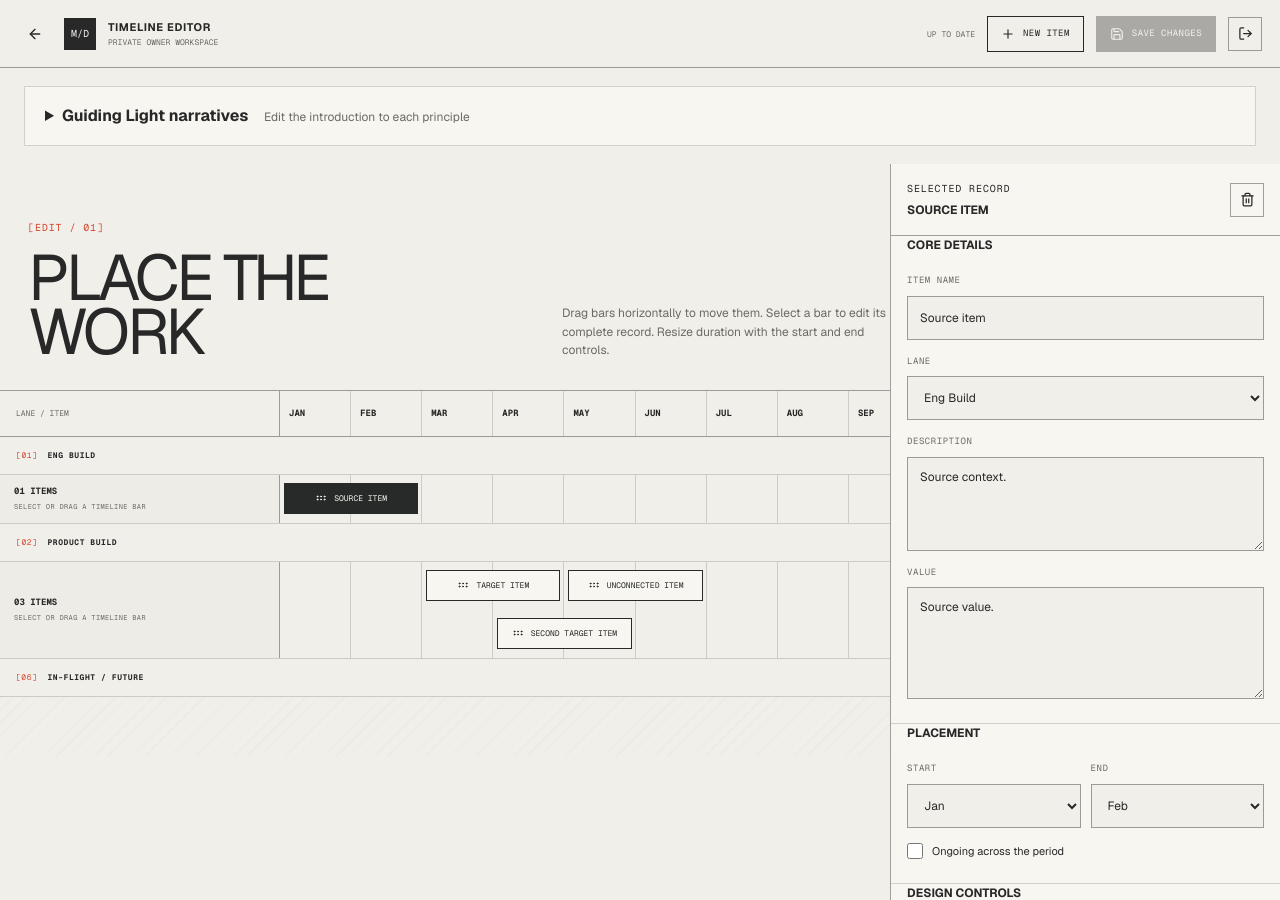
Test case: TimelineEditor Guiding Light narrative drafts › saves item and narrative edits together without losing either draft
Replace the text in the field labelled "Item name" with "Edited item" at (1086, 318), box top-left (907, 296), bottom-right (1264, 340)
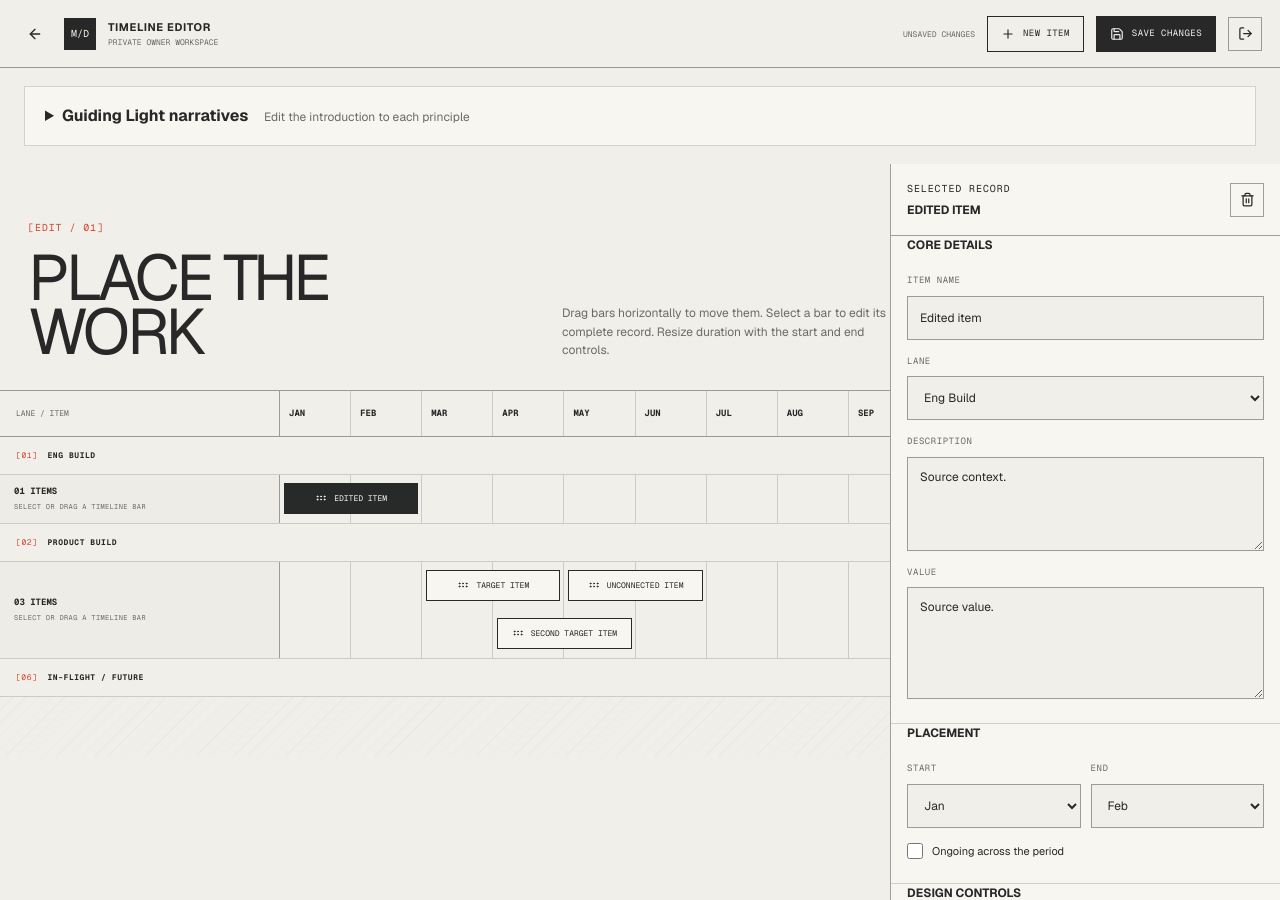
Click the heading "Guiding Light narratives" at (266, 116), box top-left (62, 105), bottom-right (470, 126)
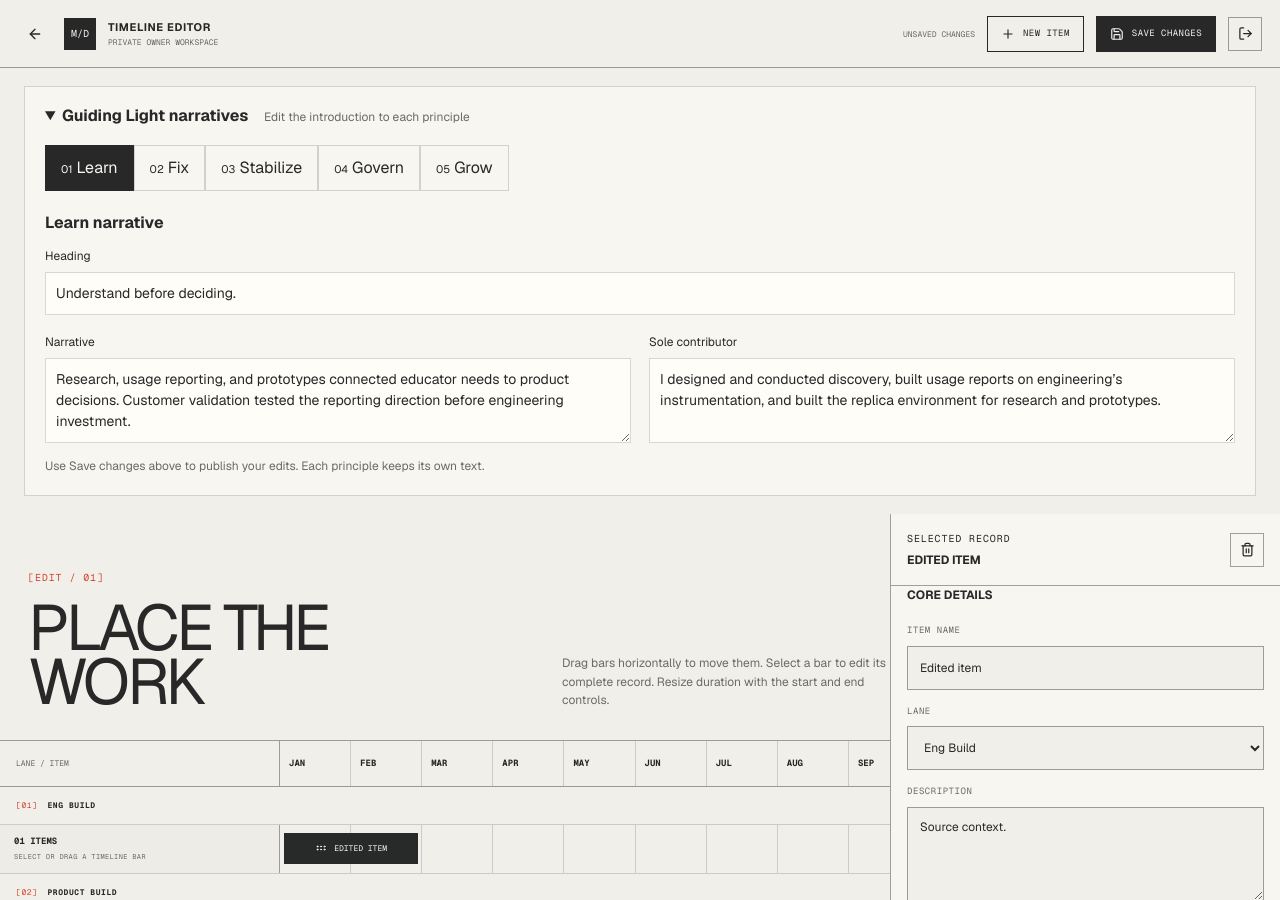
Replace the text in the text box labelled "Narrative" with "Edited introduction" at (338, 400), box top-left (45, 358), bottom-right (631, 443)
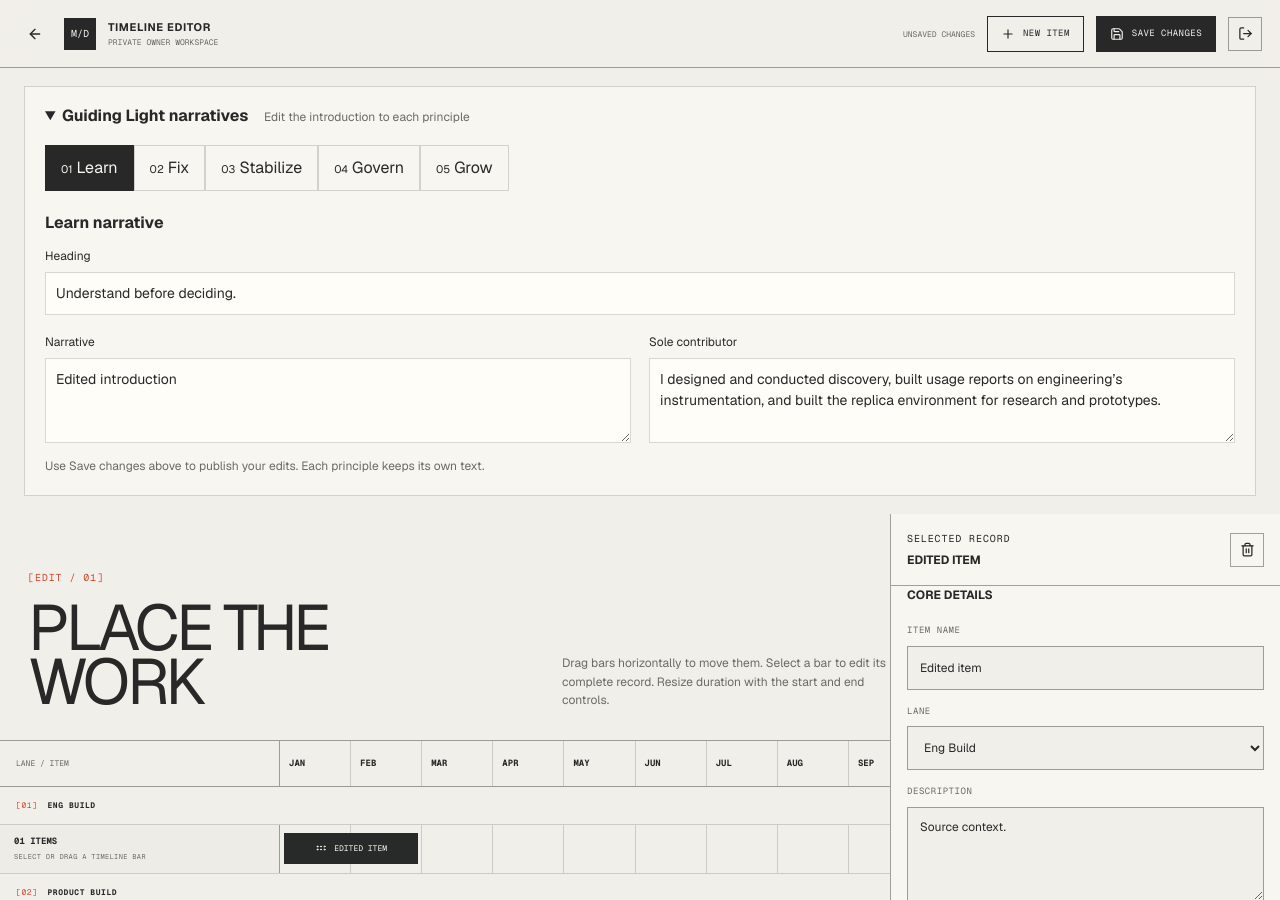
Click the button "Save changes" at (1156, 34), box top-left (1096, 16), bottom-right (1216, 52)
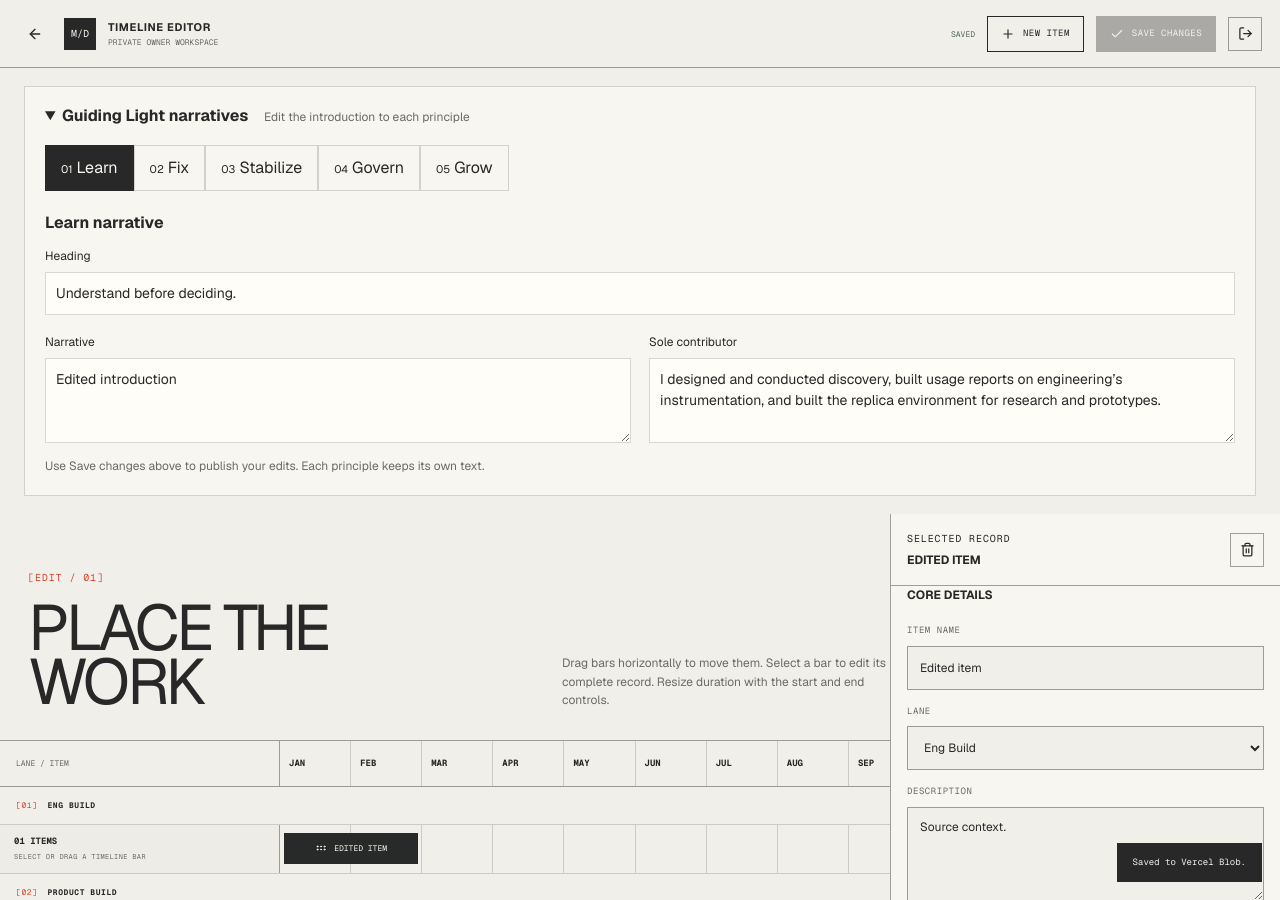
expect the text "Saved to Vercel Blob." is shown: met, box top-left (1117, 842), bottom-right (1262, 882)
